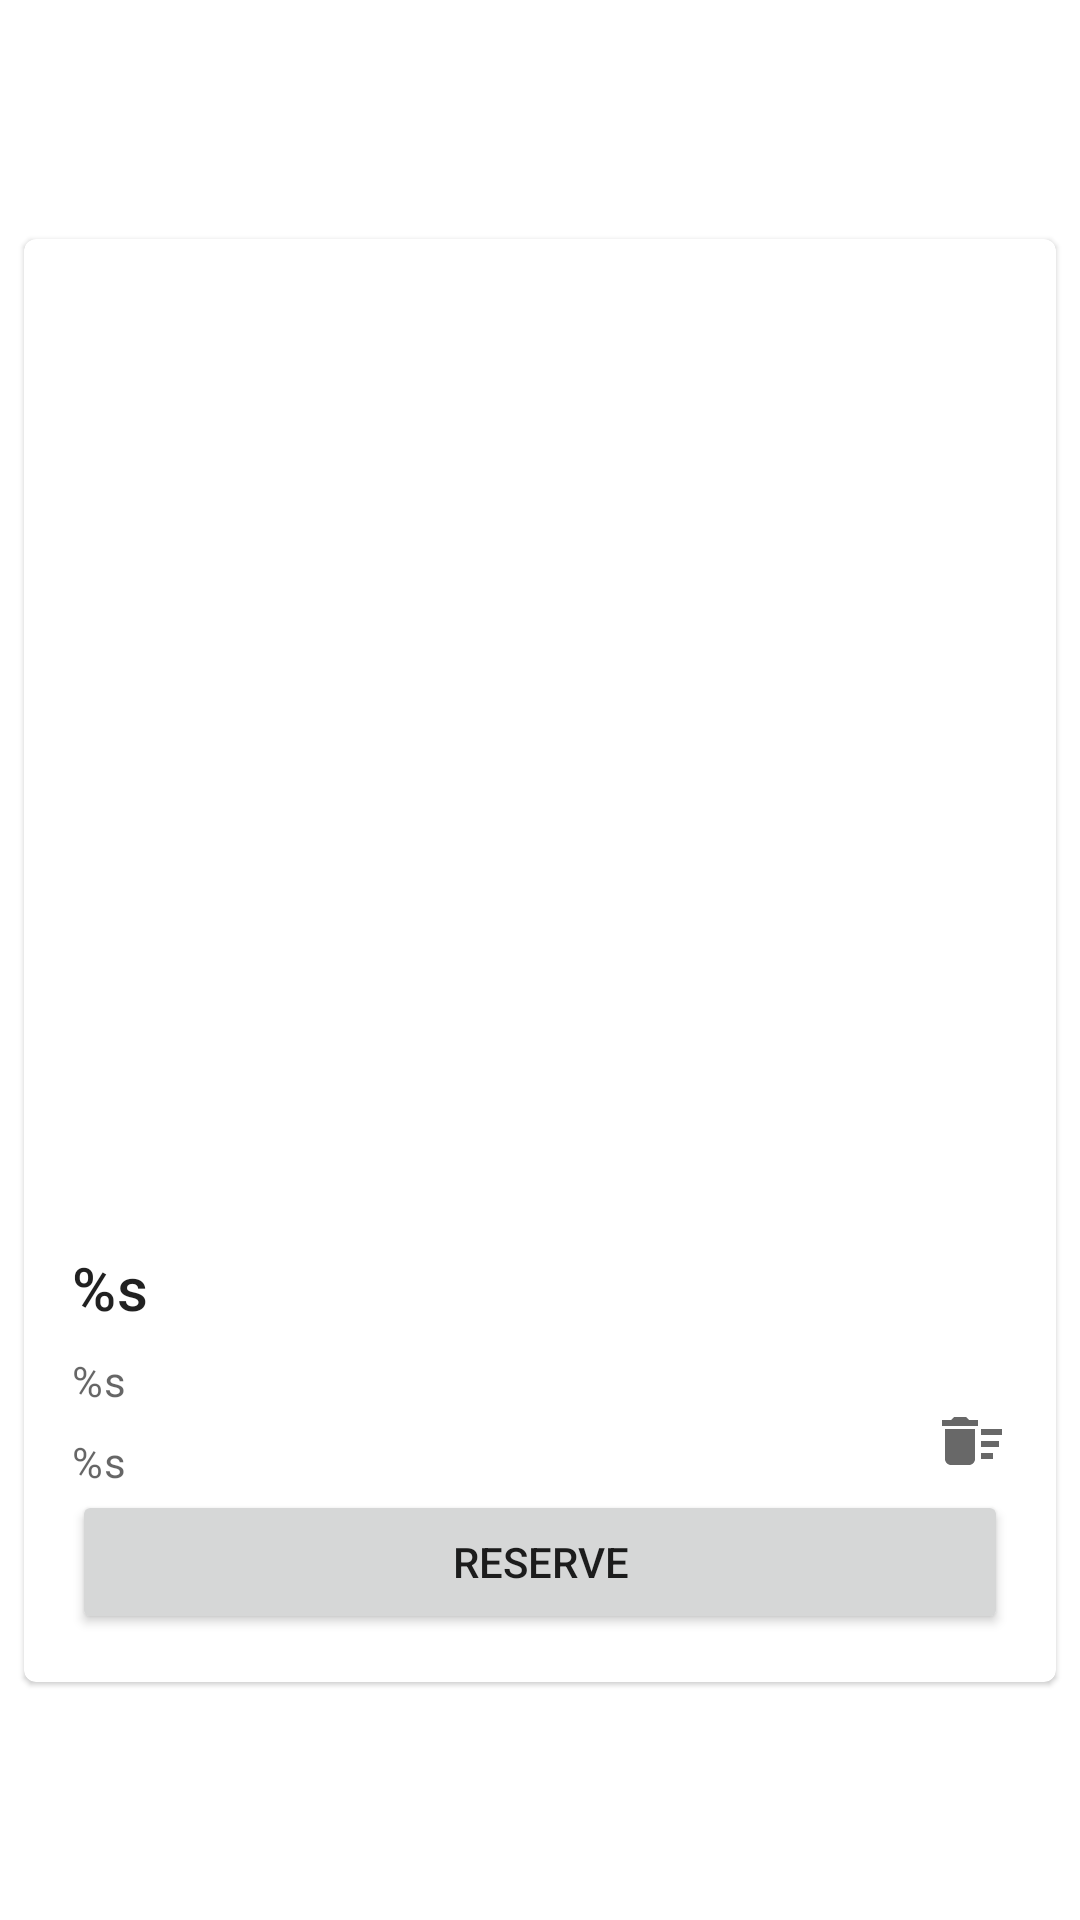

Screen size 1080w x 1920h. Icon name, then its box in pixels as (left=x1, top=y1, right=x2, bottom=y2):
delete sweep: (left=942, top=1417, right=1002, bottom=1465)
